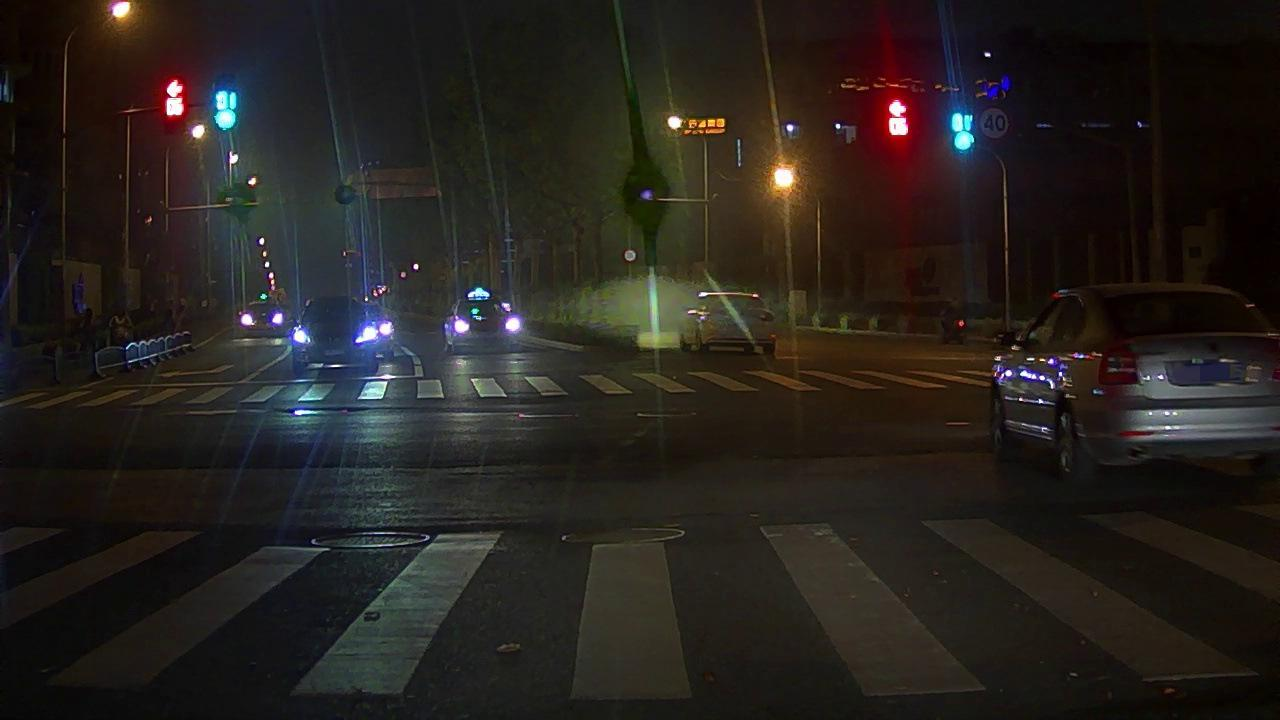traffic_light: (214, 83, 236, 132), (165, 78, 184, 131), (888, 97, 908, 146), (955, 108, 973, 155)
